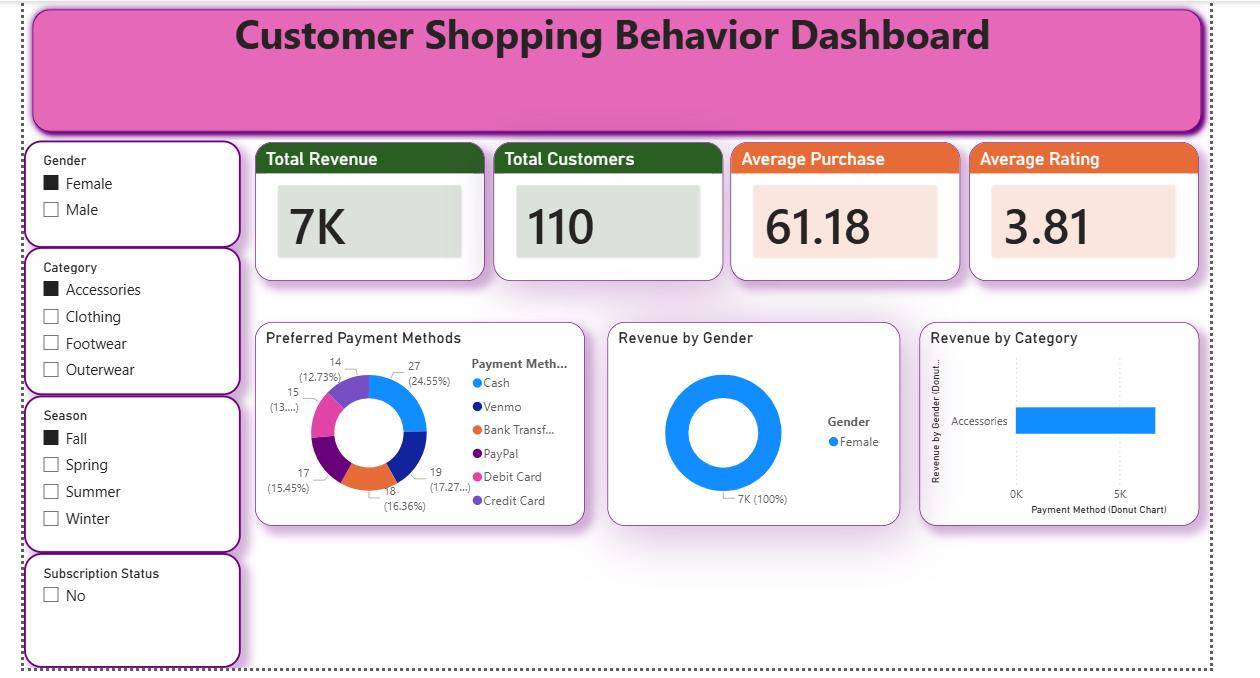

Layout of this report page (visuals, bound fields, positions):
{"tool":"powerbi","page":{"name":"Page 1","canvas":[1280,720],"ordinal":0},"visuals":[{"type":"shape","box":[0,0,1280,150],"z":0},{"type":"cardVisual","title":"Total Revenue","fields":{"Data":["Sum(customer_shopping_behavior.Purchase Amount (USD))"]},"box":[250,152.7,248,150],"z":1000},{"type":"cardVisual","title":"Total Customers","fields":{"Data":["CountNonNull(customer_shopping_behavior.Customer ID)"]},"box":[506.7,152.7,248,150],"z":2000},{"type":"cardVisual","title":"Average Purchase","fields":{"Data":["Avg(customer_shopping_behavior.Purchase Amount (USD))"]},"box":[763.3,152.7,248,150],"z":3000},{"type":"cardVisual","title":"Average Rating","fields":{"Data":["Avg(customer_shopping_behavior.Review Rating)"]},"box":[1020,152.7,248,150],"z":4000},{"type":"clusteredBarChart","title":"Revenue by Category","fields":{"Category":["customer_shopping_behavior.Category"],"Y":["Sum(customer_shopping_behavior.Purchase Amount (USD))"]},"box":[966,346,302,220],"z":5000},{"type":"donutChart","title":"Revenue by Gender","fields":{"Category":["customer_shopping_behavior.Gender"],"Y":["Sum(customer_shopping_behavior.Purchase Amount (USD))"]},"box":[630,346,316,220],"z":6000},{"type":"donutChart","title":"Preferred Payment Methods","fields":{"Category":["customer_shopping_behavior.Payment Method"],"Y":["CountNonNull(customer_shopping_behavior.Customer ID)"]},"box":[250,346,356,220],"z":7000},{"type":"slicer","fields":{"Values":["customer_shopping_behavior.Gender"]},"box":[0,150,234,116],"z":8000},{"type":"slicer","fields":{"Values":["customer_shopping_behavior.Category"]},"box":[0,266,234,160],"z":9000},{"type":"slicer","fields":{"Values":["customer_shopping_behavior.Season"]},"box":[0,426,234,170],"z":10000},{"type":"slicer","fields":{"Values":["customer_shopping_behavior.Subscription Status"]},"box":[0,596,234,124],"z":11000},{"type":"textbox","box":[20,0,1232,76],"z":12000}]}

Visuals, with their boxes in screenshot pixels (x1, y1, x2, y2):
shape: pyautogui.locateOnScreen(20, 0, 1210, 136)
"Total Revenue" cardVisual: pyautogui.locateOnScreen(252, 139, 483, 278)
"Total Customers" cardVisual: pyautogui.locateOnScreen(491, 139, 722, 278)
"Average Purchase" cardVisual: pyautogui.locateOnScreen(730, 139, 961, 278)
"Average Rating" cardVisual: pyautogui.locateOnScreen(969, 139, 1199, 278)
"Revenue by Category" clusteredBarChart: pyautogui.locateOnScreen(918, 319, 1199, 523)
"Revenue by Gender" donutChart: pyautogui.locateOnScreen(606, 319, 900, 523)
"Preferred Payment Methods" donutChart: pyautogui.locateOnScreen(252, 319, 583, 523)
slicer - customer_shopping_behavior.Gender: pyautogui.locateOnScreen(20, 136, 237, 244)
slicer - customer_shopping_behavior.Category: pyautogui.locateOnScreen(20, 244, 237, 393)
slicer - customer_shopping_behavior.Season: pyautogui.locateOnScreen(20, 393, 237, 551)
slicer - customer_shopping_behavior.Subscription Status: pyautogui.locateOnScreen(20, 551, 237, 667)
textbox: pyautogui.locateOnScreen(38, 0, 1184, 67)
